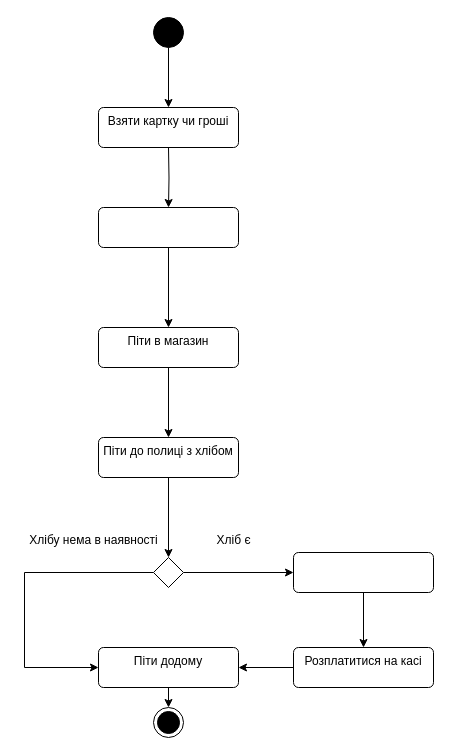
This 451x755 diagram has some shape labels left out. The shapes that lost their labels are listed below. From the top down, each one's centre as x and y in pixels, then its label:
point 168,227: Вийти з підїзду
point 363,572: Взяти Хліб
